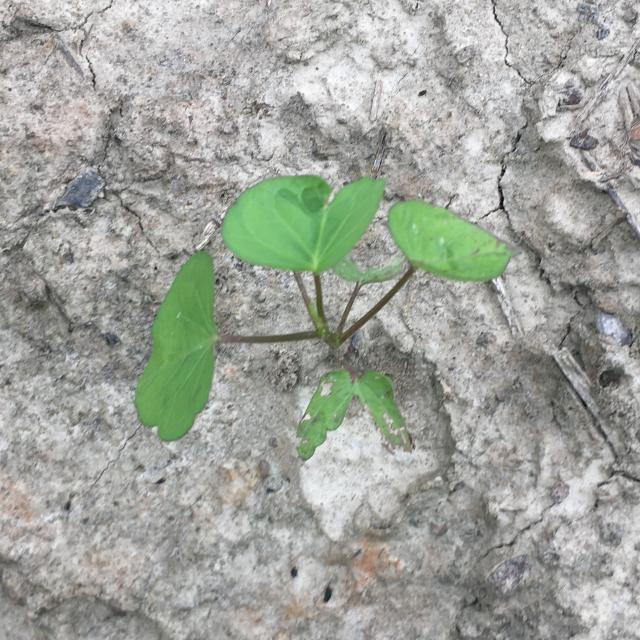MorningGlory: (133, 175, 521, 461)
